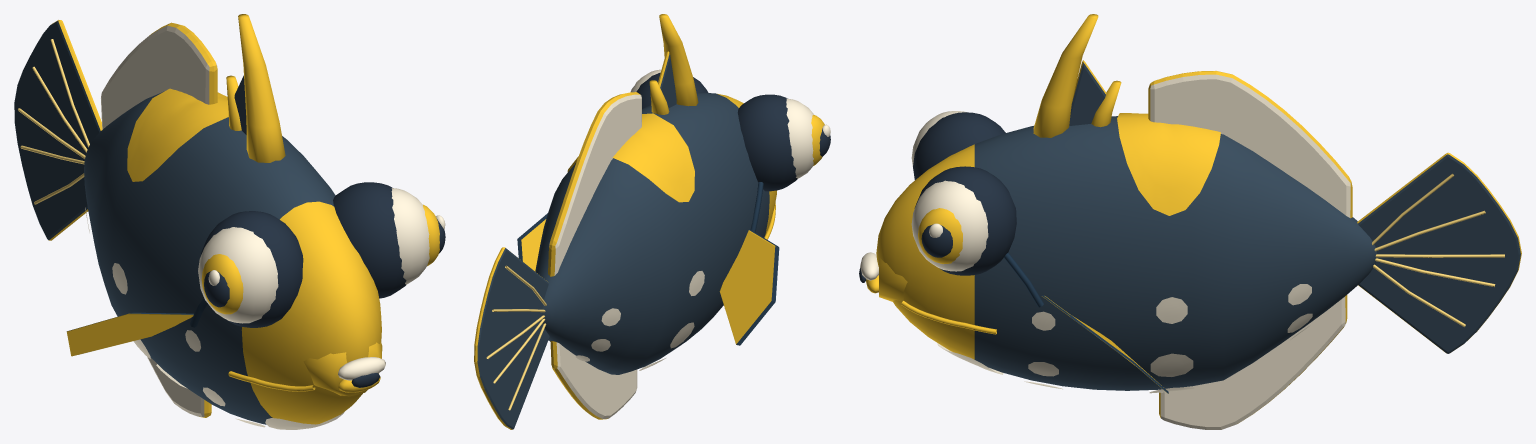
File: triggerfish.glb
3 renders of one model, left to right at view 1: azimuth 30°, elevation 25°; view 2: azimuth 150°, elevation 25°; view 3: azimuth 270°, elevation 25°, orthographic. The views are drawn at different scales.
Parts seen in each view (by area): view 1: BodyMesh, TailMesh, PectoralMesh; view 2: BodyMesh, TailMesh, PectoralMesh, PectoralMesh.001; view 3: BodyMesh, TailMesh.
Boxes of the visible parts, x1,y1,x2,y2 form: BodyMesh: [84, 14, 445, 429]; TailMesh: [14, 20, 102, 240]; PectoralMesh: [66, 312, 193, 356]; BodyMesh: [535, 14, 830, 419]; TailMesh: [474, 247, 549, 429]; PectoralMesh: [719, 229, 779, 345]; PectoralMesh.001: [517, 213, 547, 271]; BodyMesh: [859, 14, 1376, 429]; TailMesh: [1357, 152, 1521, 353].
Size of the model in its own units: 1.3 by 1.74 by 2.53.
